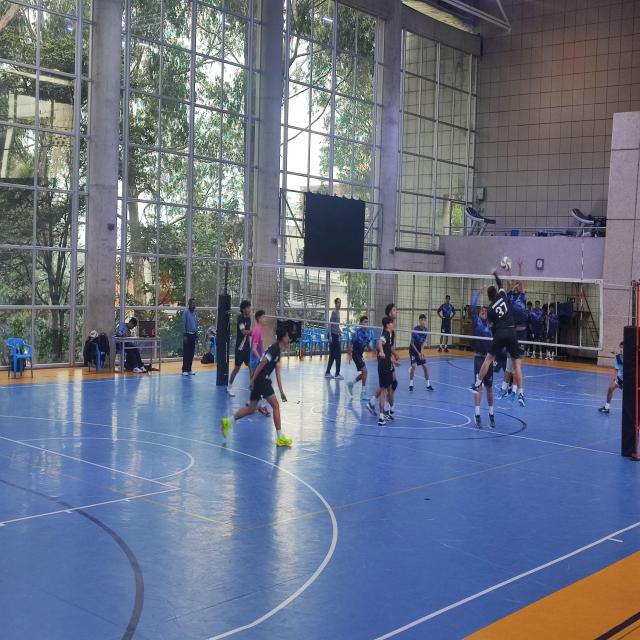volleyball: (501, 256, 512, 270), (89, 330, 98, 340)
